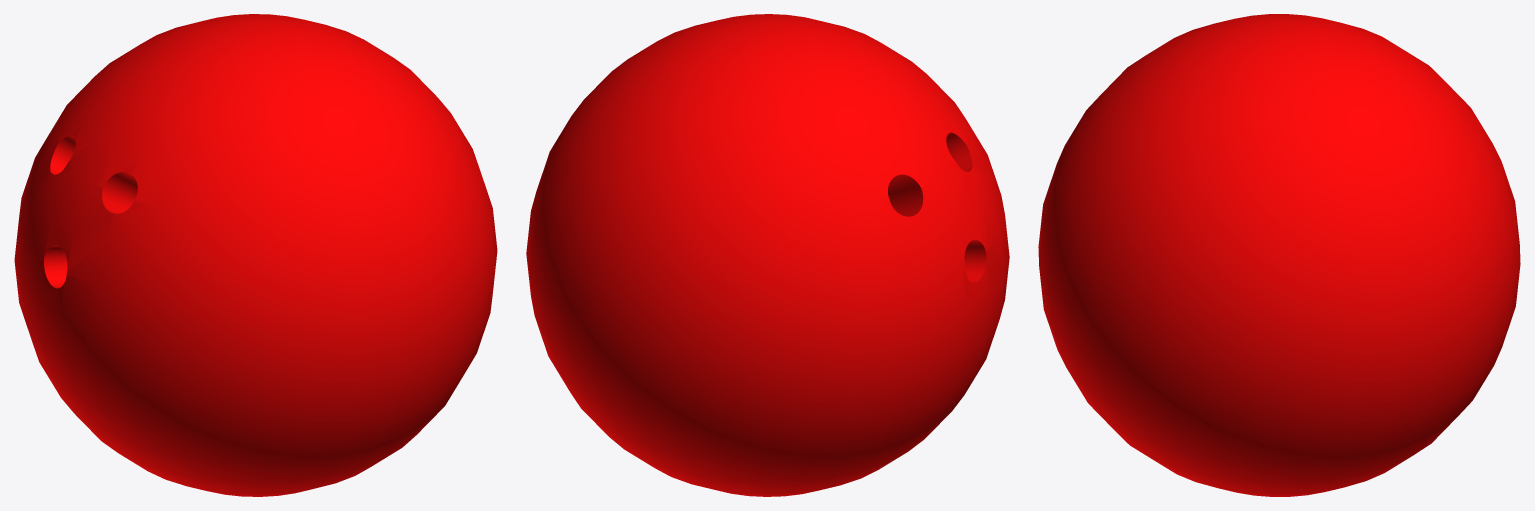
Rendered from Ball.FBX.
3 renders of one model, left to right at view 1: azimuth 30°, elevation 25°; view 2: azimuth 150°, elevation 25°; view 3: azimuth 270°, elevation 25°, orthographic.
Parts seen in each view (by area): view 1: Sphere001; view 2: Sphere001; view 3: Sphere001.
Boxes of the visible parts, box(x1,y1,x2,y2) form: Sphere001: box(14, 14, 497, 496); Sphere001: box(526, 14, 1009, 496); Sphere001: box(1038, 14, 1520, 496).
Bounding box in the file's own units: 4.05 × 4.06 × 4.05.
